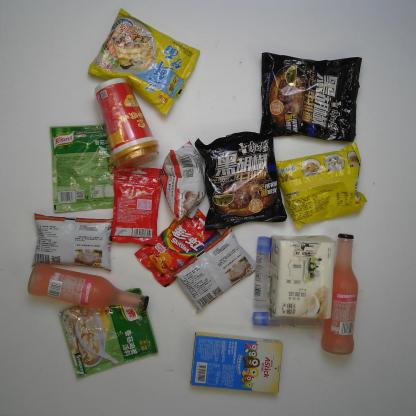Alcohol: (25, 261, 150, 314), (320, 230, 360, 357)
Candy: (134, 205, 222, 290), (108, 163, 166, 247)
Dessert: (186, 330, 284, 397)
Instant Drink: (91, 75, 162, 171)
Instant Noodles: (86, 6, 201, 116), (256, 50, 364, 144), (192, 128, 288, 233), (274, 140, 369, 231)
Seasoner: (55, 286, 160, 381), (171, 226, 256, 314), (46, 121, 120, 214), (27, 211, 118, 272), (158, 139, 208, 223)
Stationery: (250, 234, 274, 328), (253, 307, 321, 332)
Tissue: (268, 231, 336, 324)
